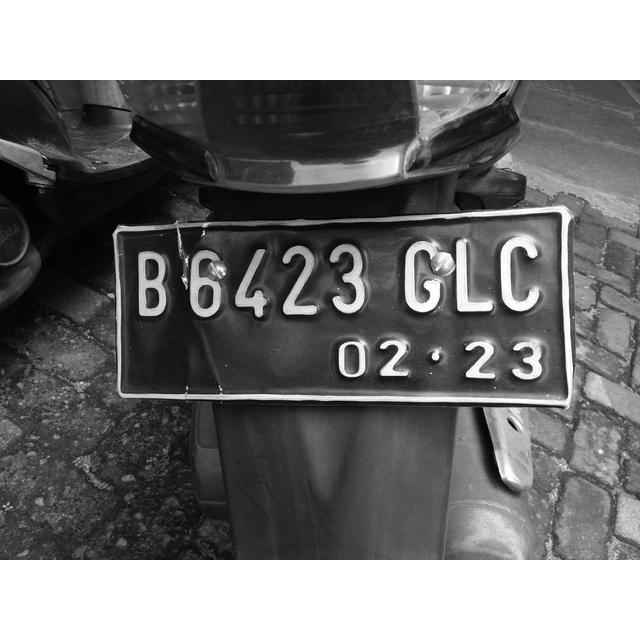license: (126, 231, 556, 388)
